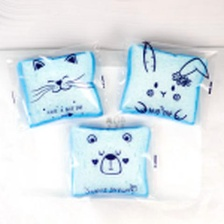snack: (107, 29, 224, 136), (0, 34, 114, 133), (57, 111, 166, 207)
